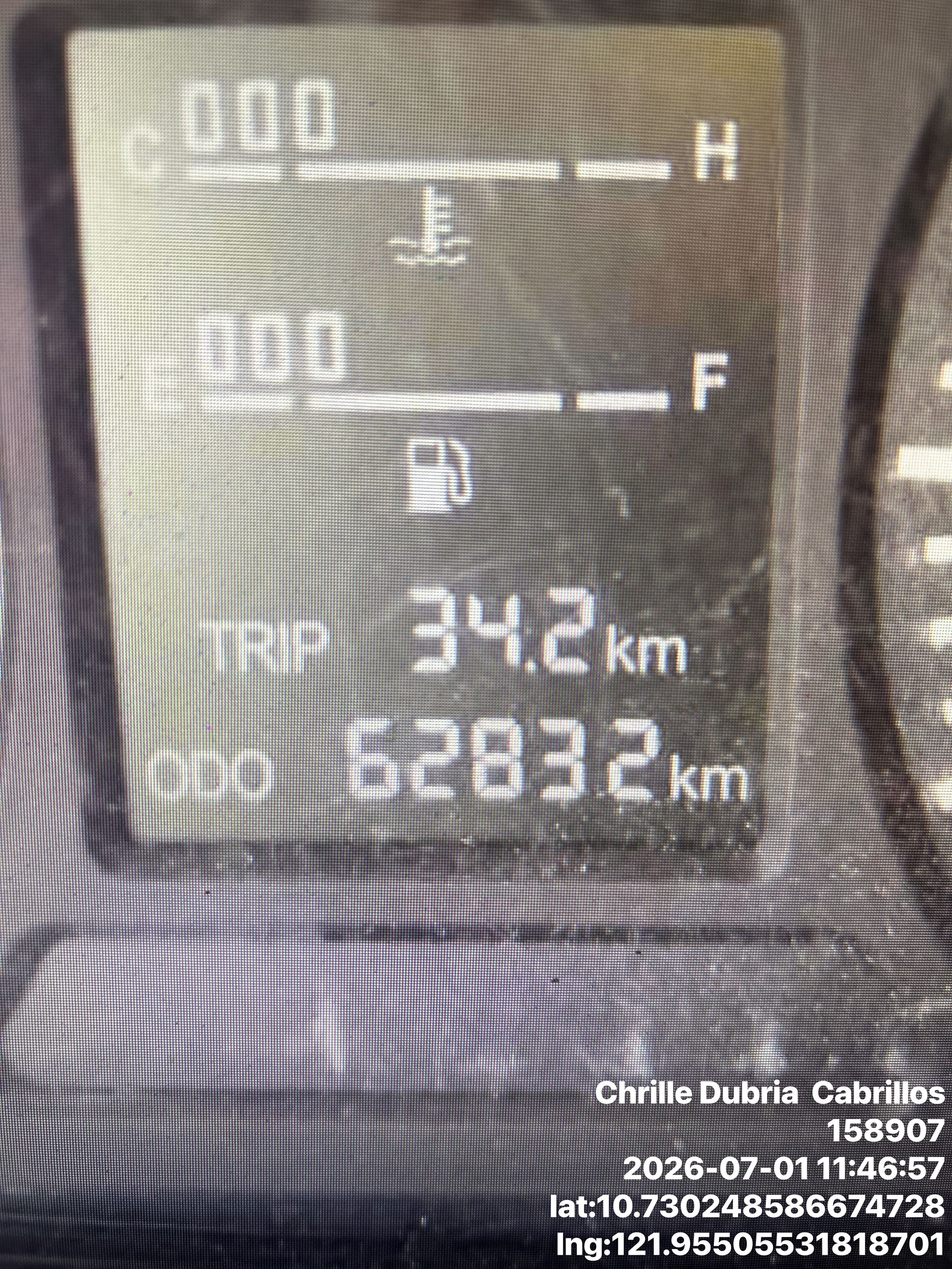grid_pose: (204, 254, 666, 414)
